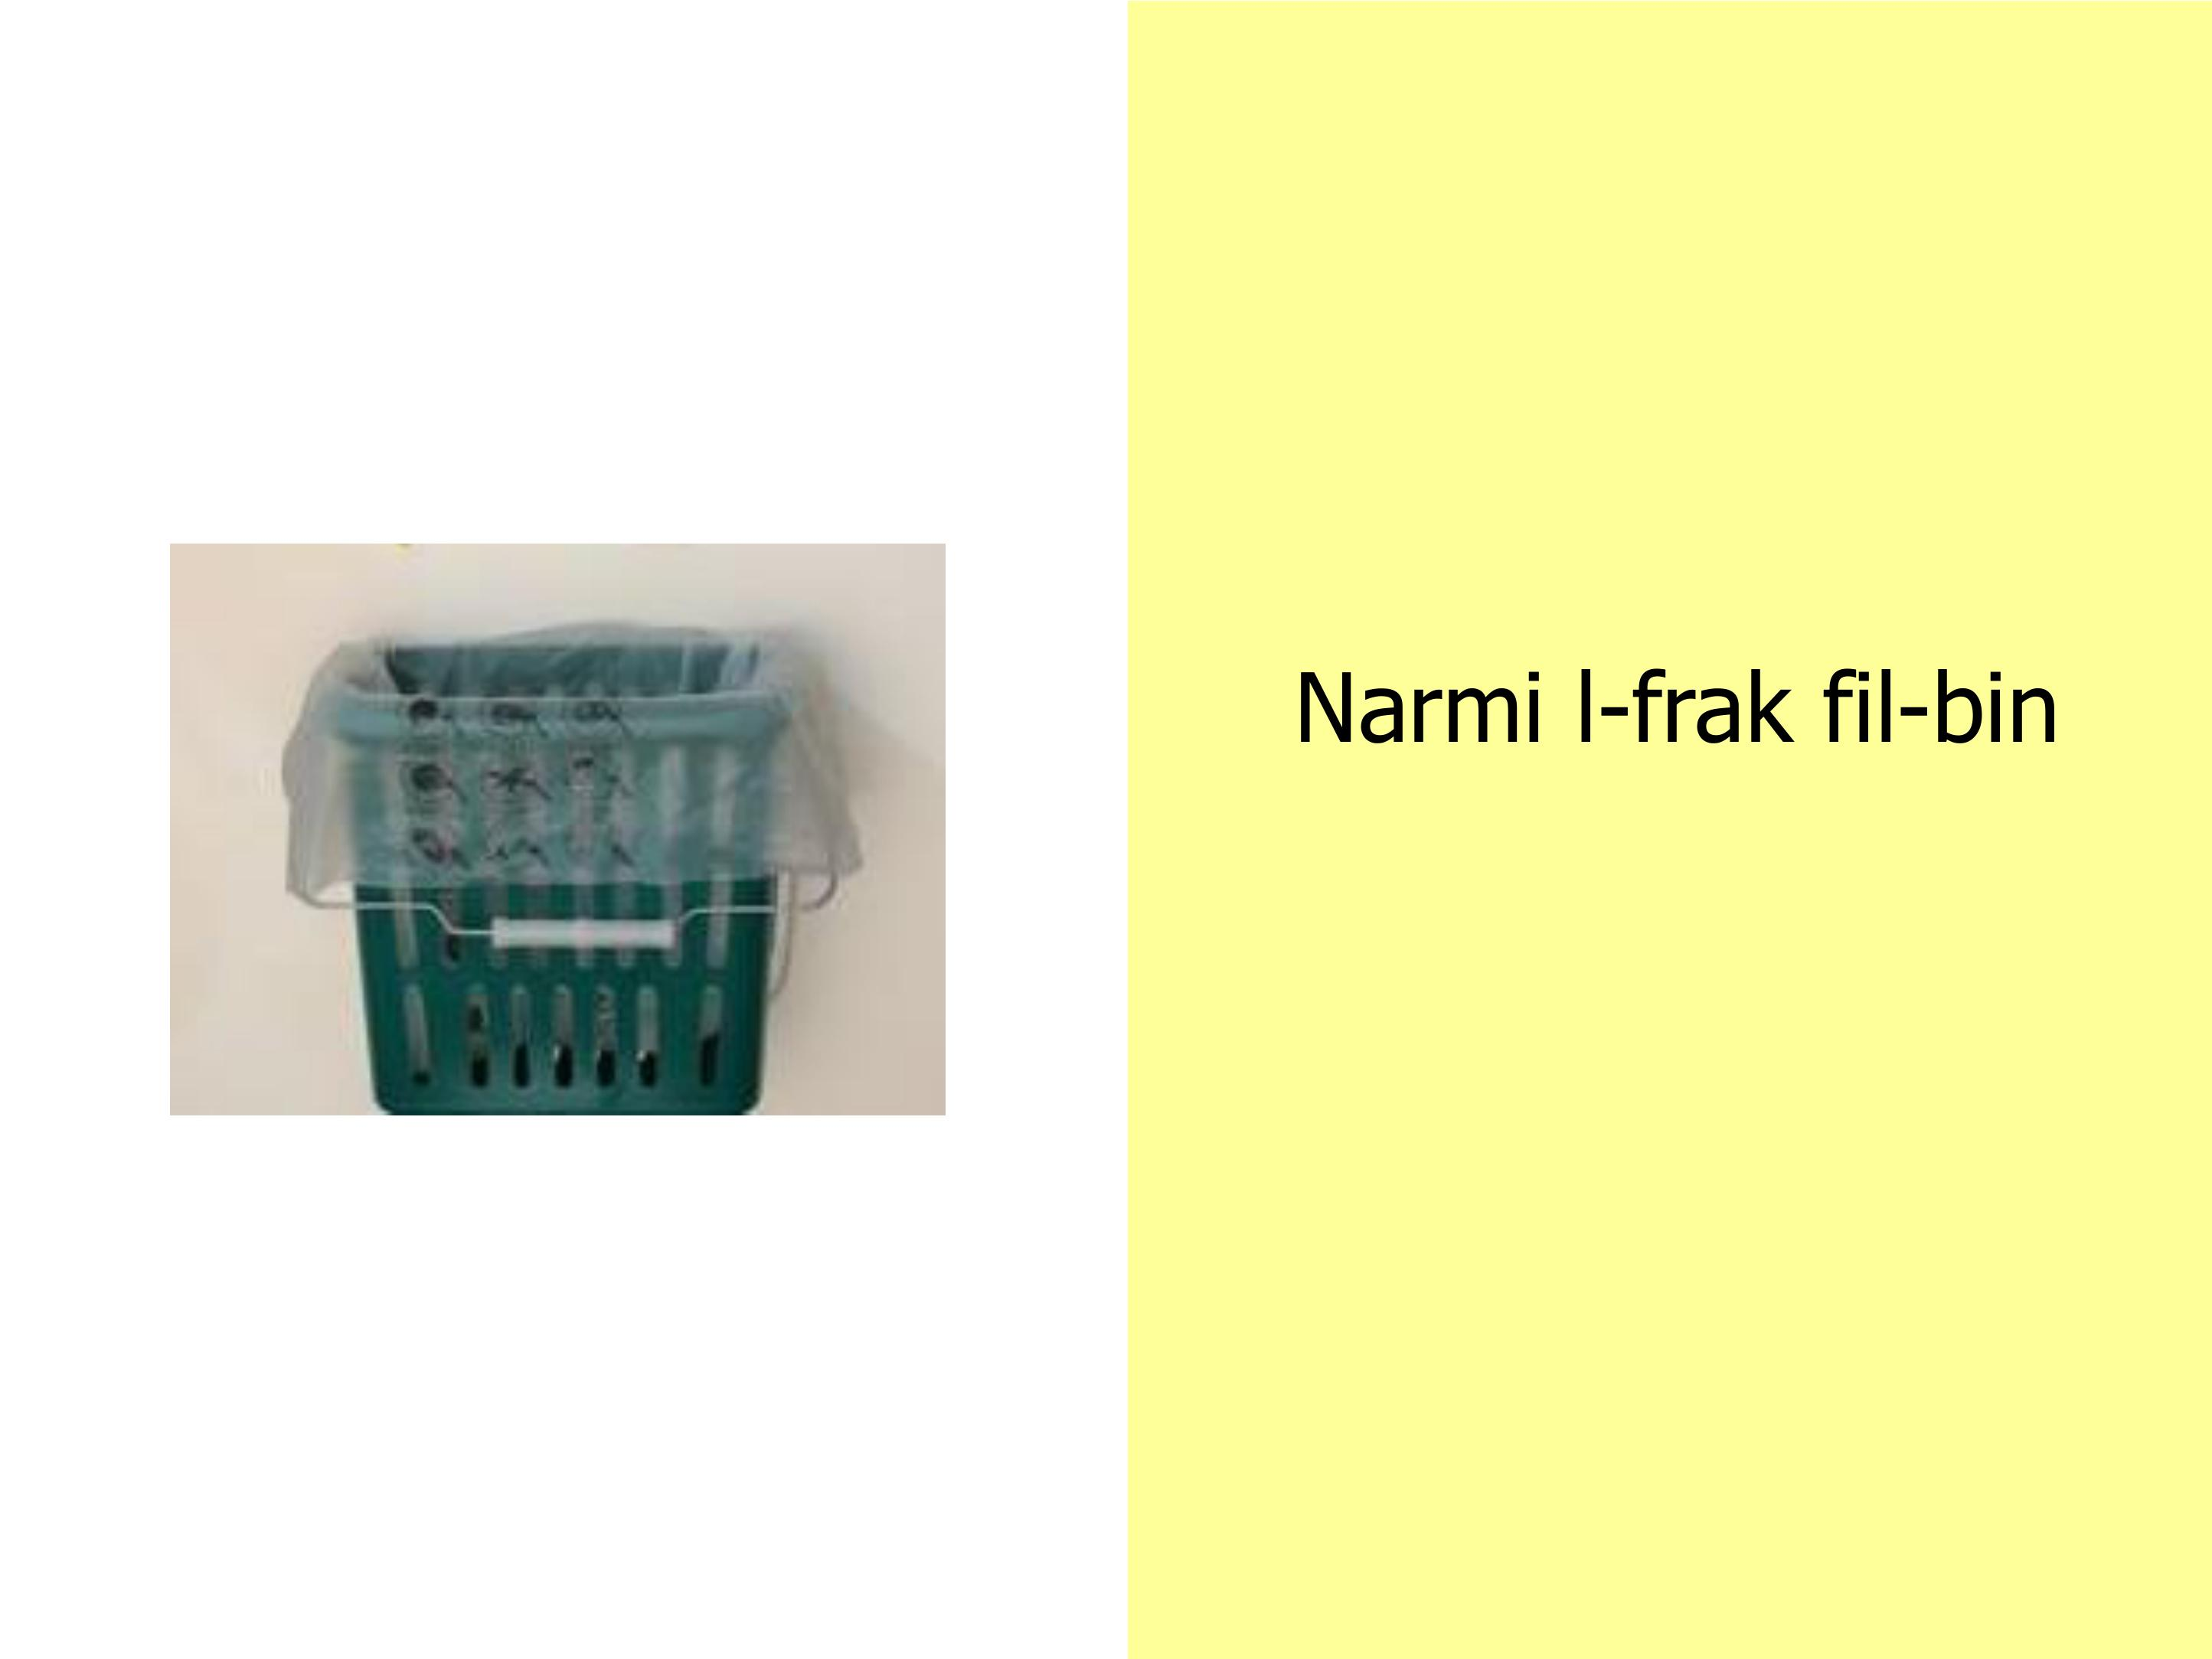text: (1250, 631, 2076, 788)
